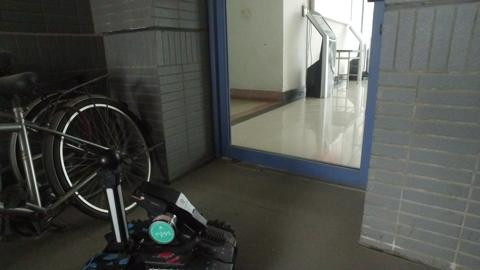bike: (1, 71, 145, 214)
chariot: (83, 151, 241, 267)
